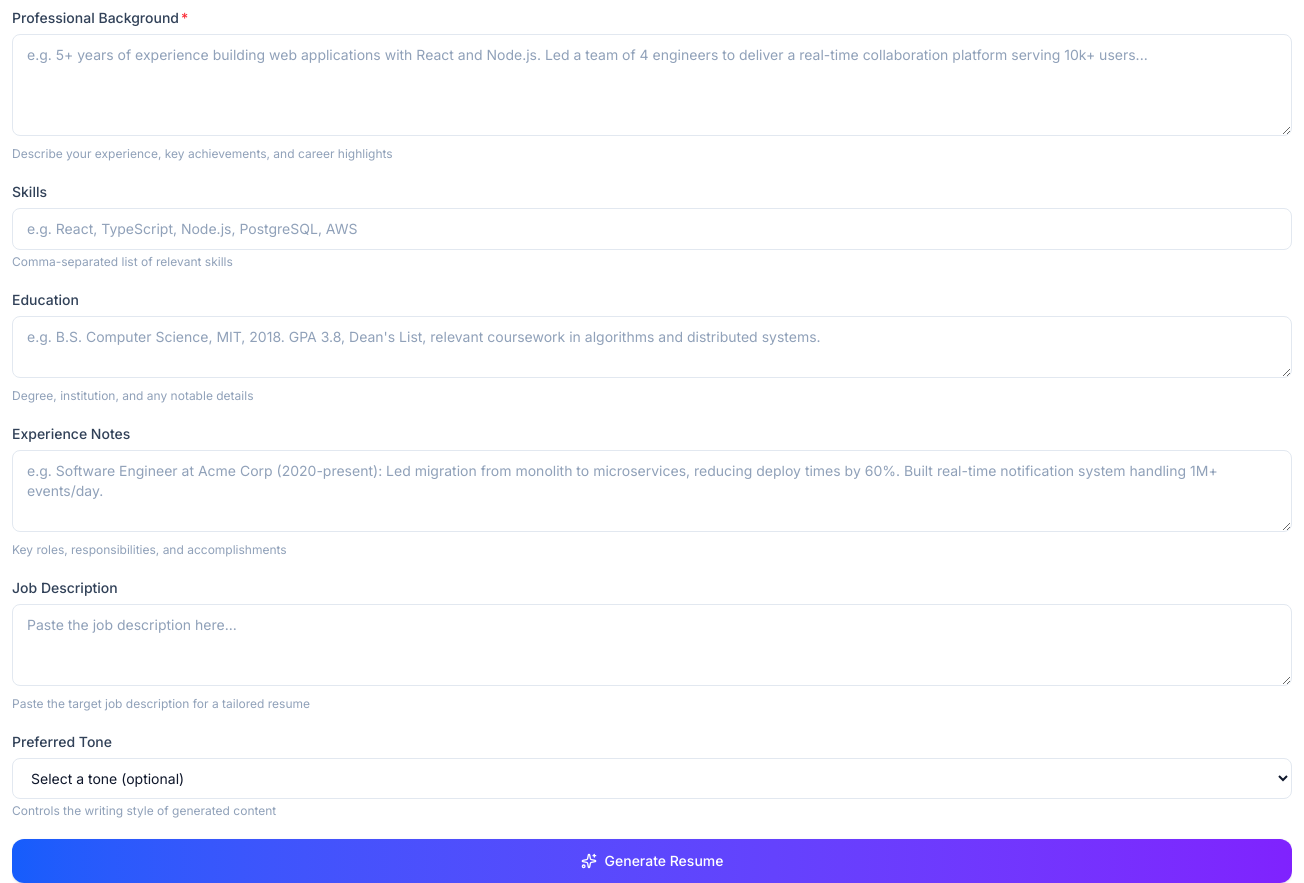
Test case: 2. Required fields validate › shows error when target role is empty
The image size is (1304, 883).
(page scrolled)
Click the button "Generate Resume": coordinates (652, 861) [12,839,1292,882]
(page scrolled)
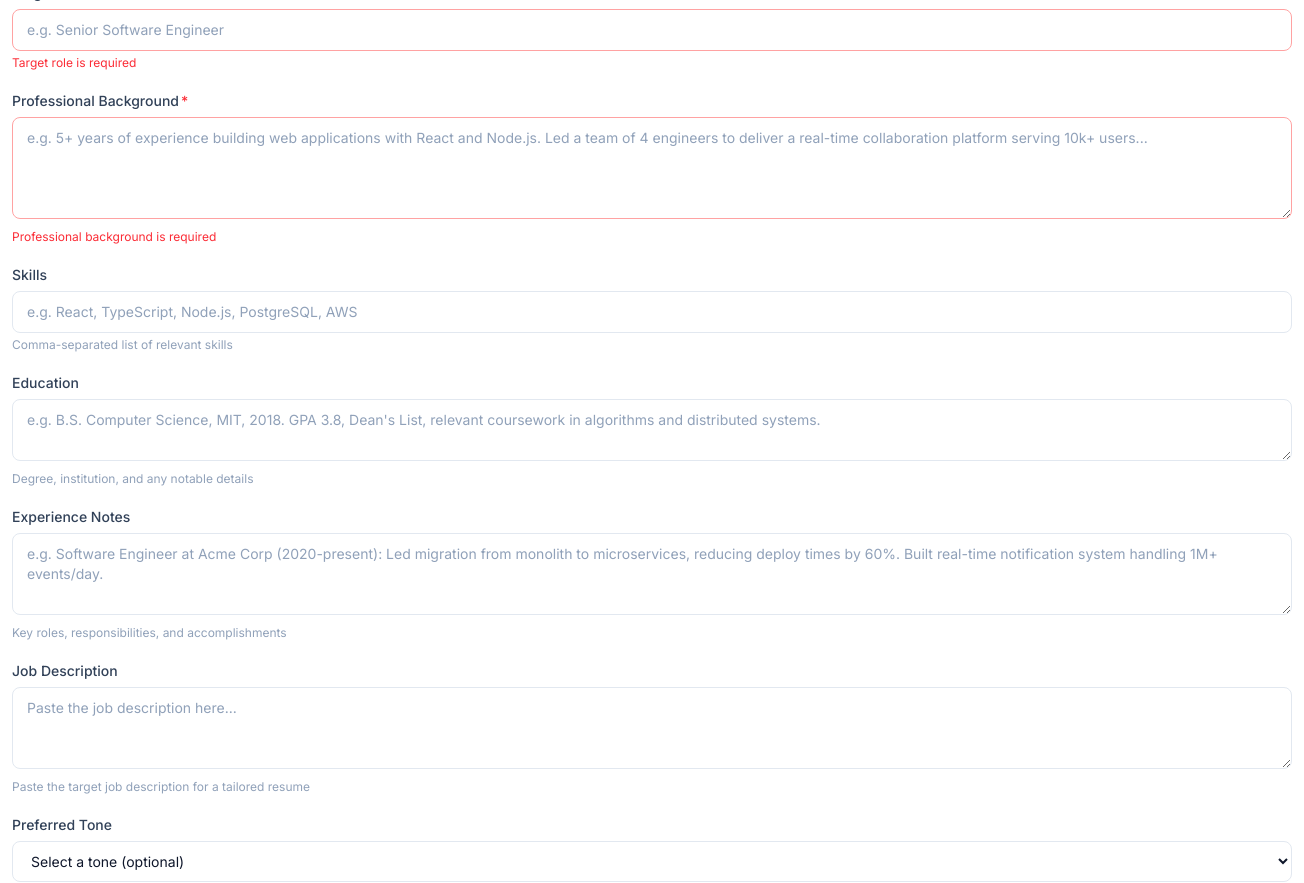
Result: the text "Target role is required" is shown at [12,55,136,70]
